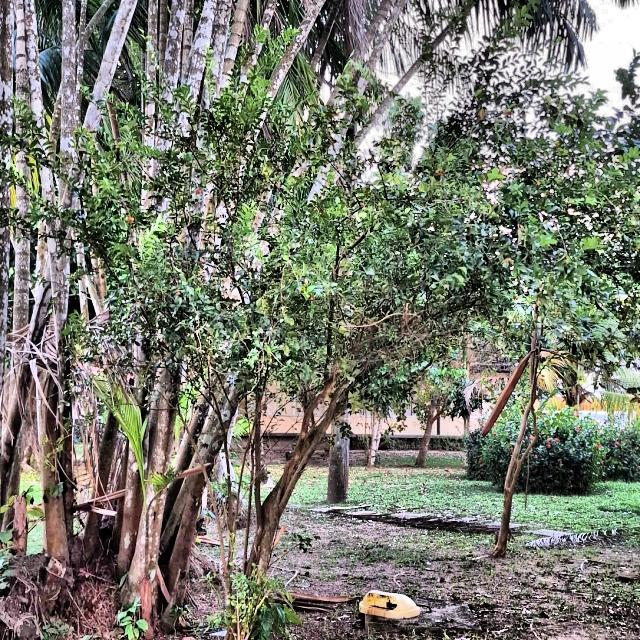arvore: (86, 121, 361, 640), (407, 111, 640, 596)
